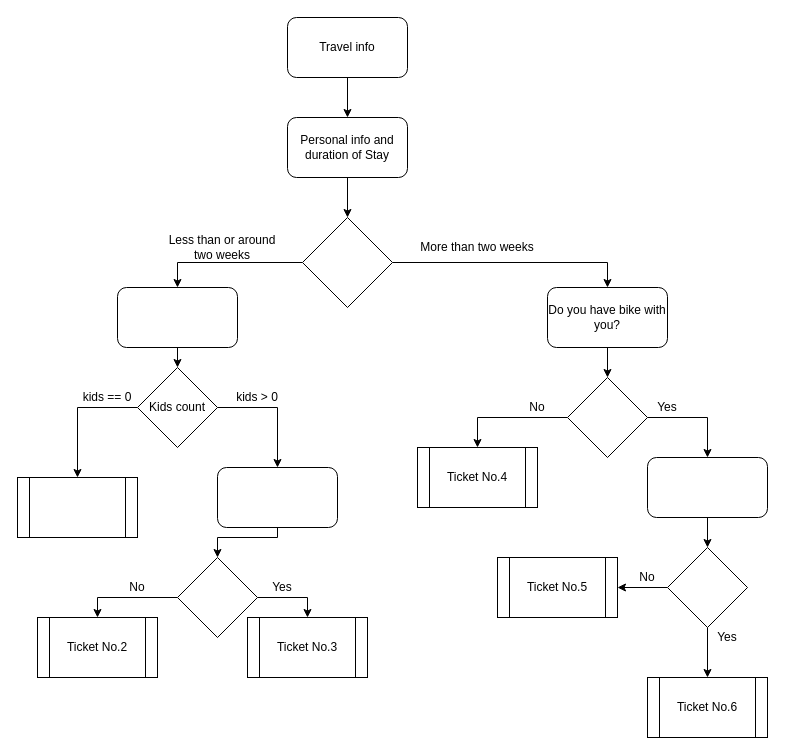
Some shapes in this 785 by 755 pixel diagram are drawn without their labels. The centre of each missing label's shape, as x and y in pixels:
Any kids under 5 years old?: the point at 277,497
How many kids?: the point at 177,317
Stay duration: the point at 347,262
Ticket No.1: the point at 77,507
Want to have bike trip?: the point at 707,487
